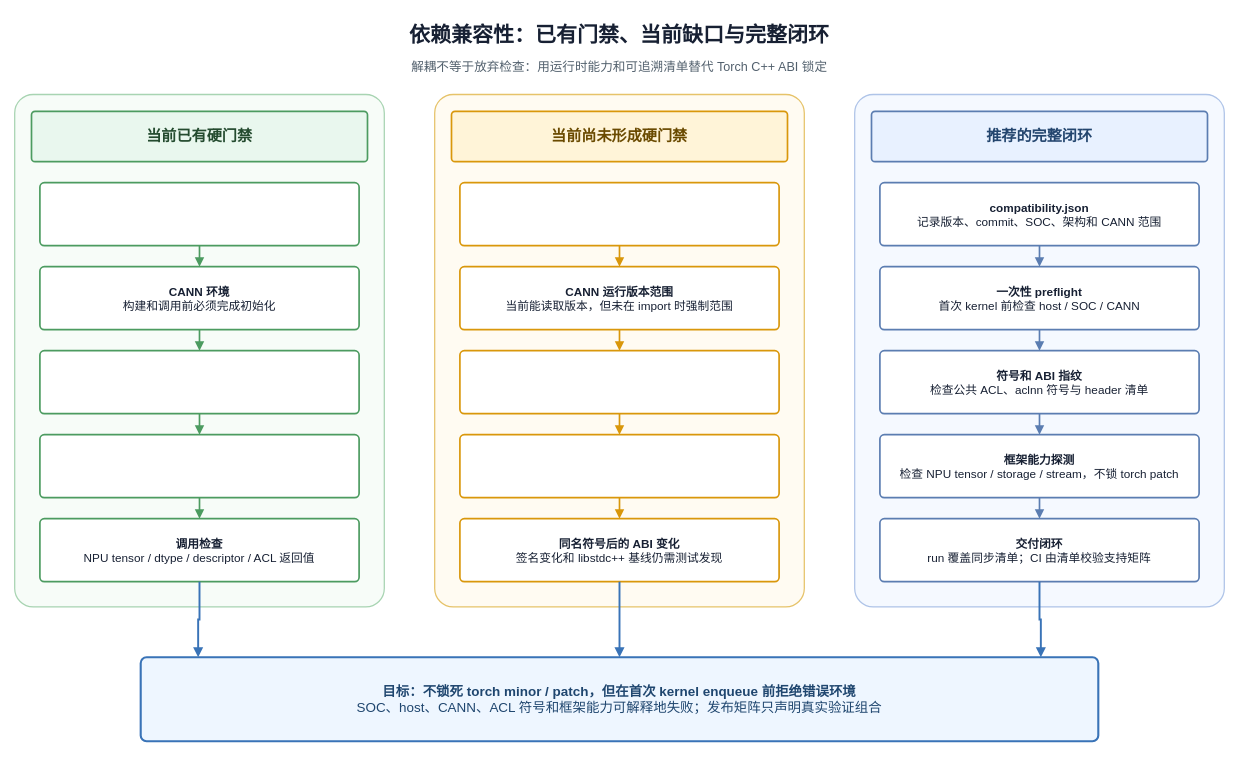
Some shapes in this 1240 by 757 pixel diagram are drawn without their labels. The centre of each missing label's shape, as x and y in pixels:
"Python 安装范围 python_requires >= 3.9" goes at (x=199, y=213).
"SOC / host build tag py3-none-any 不会让 pip 自动判错" goes at (x=619, y=213).
"torch / torch_npu 配套关系 不在 install_requires 中，也未显式比对发布族" goes at (x=619, y=381).
"内嵌 OPP 完整性 op_api / op_host / tiling / kernel 同树交付" goes at (x=199, y=381).
"动态加载 绝对路径 + RTLD_NOW 暴露缺库和缺符号" goes at (x=199, y=465).
"环境检查脚本 可检查最低版本，但安装后不会自动运行" goes at (x=619, y=465).
